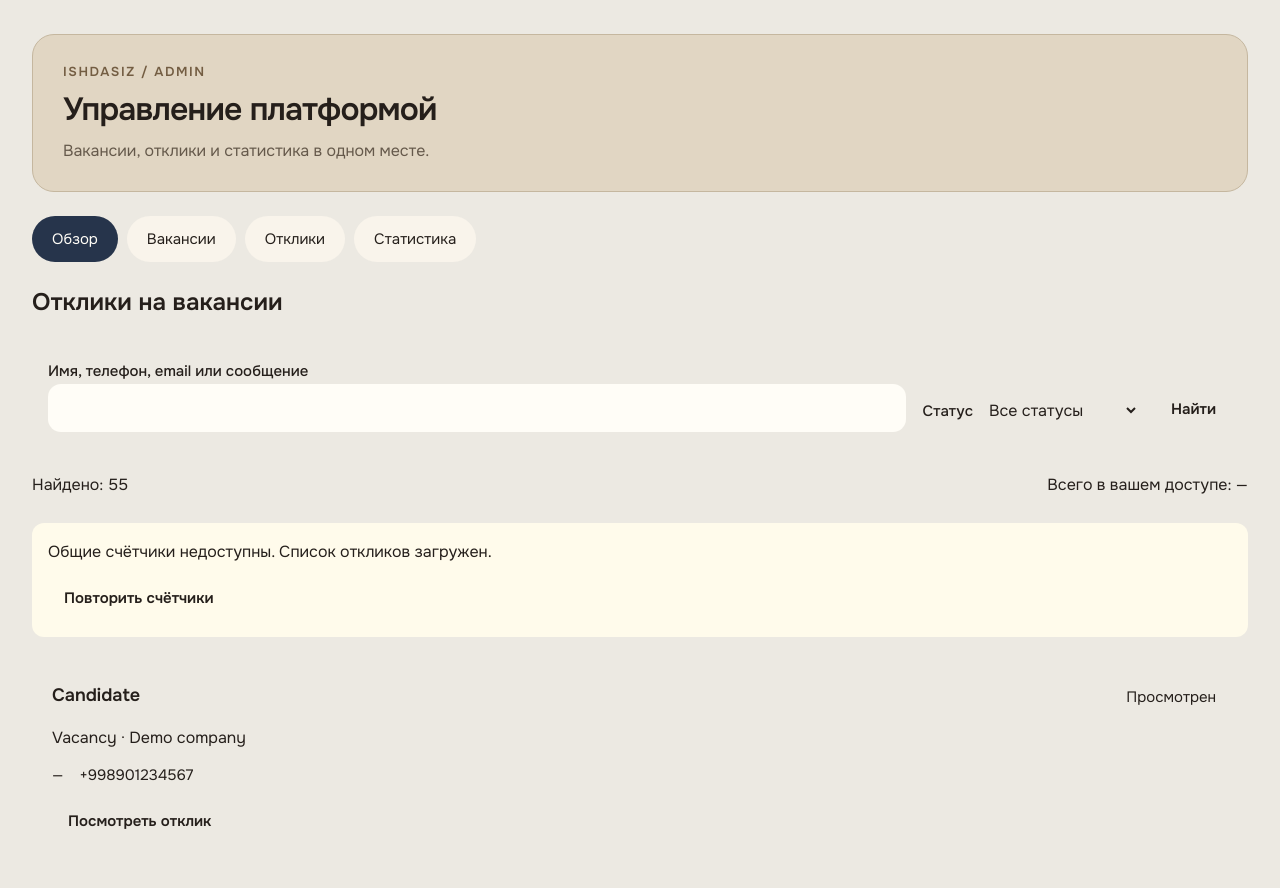
applications show a protected resume summary, clear detail on page changes, and never claim missing counts are zero
The image size is (1280, 888).
Expected: the heading "Candidate" is shown, [52, 681, 140, 713]
Expected: the message shows "счётчики недоступны", [48, 541, 492, 562]
Click the button "Посмотреть отклик".
click(140, 821)  # box [52, 799, 227, 843]
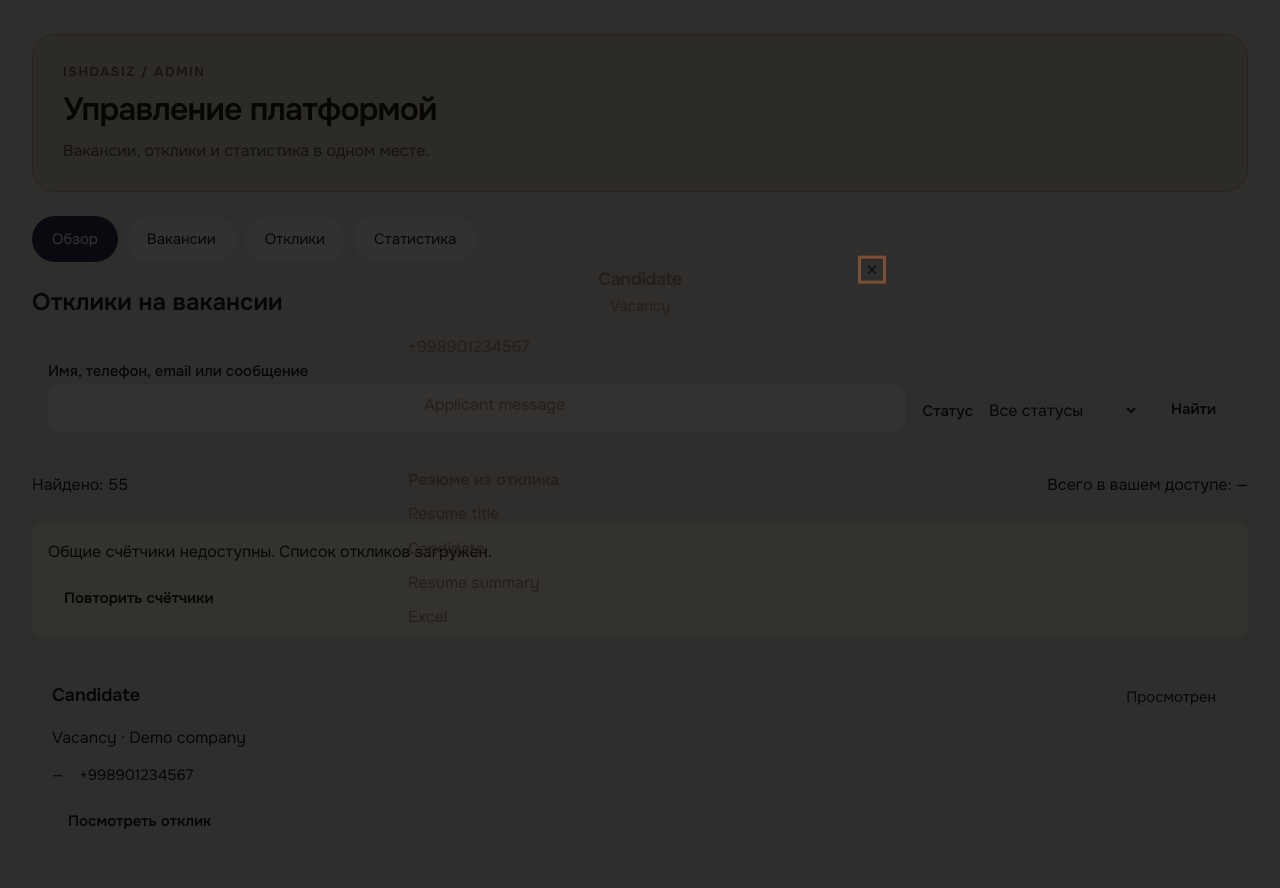
Click the button named "Close".
click(872, 270)  # box [864, 262, 880, 278]
(page scrolled)
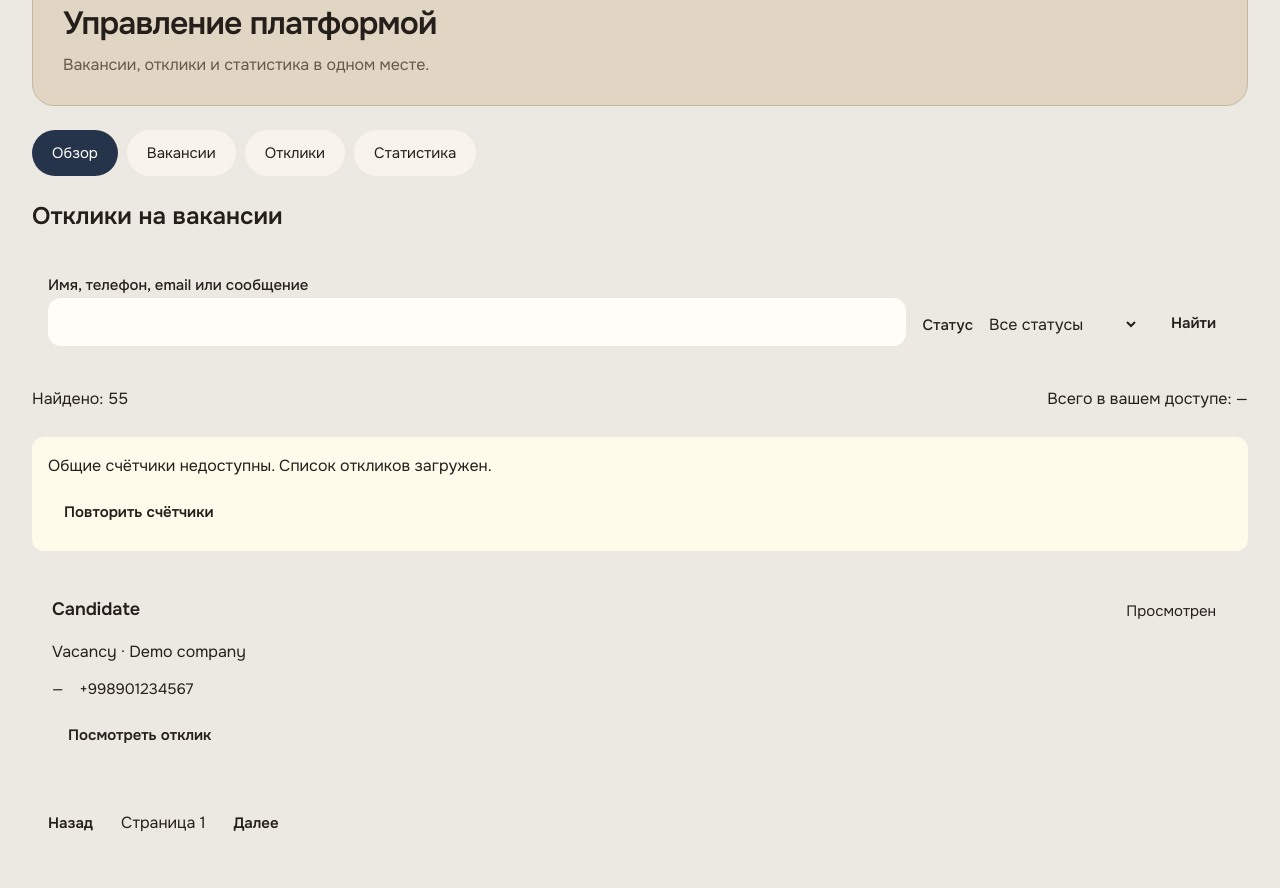
Click the button "Далее".
click(256, 823)  # box [218, 801, 295, 845]
(page scrolled)
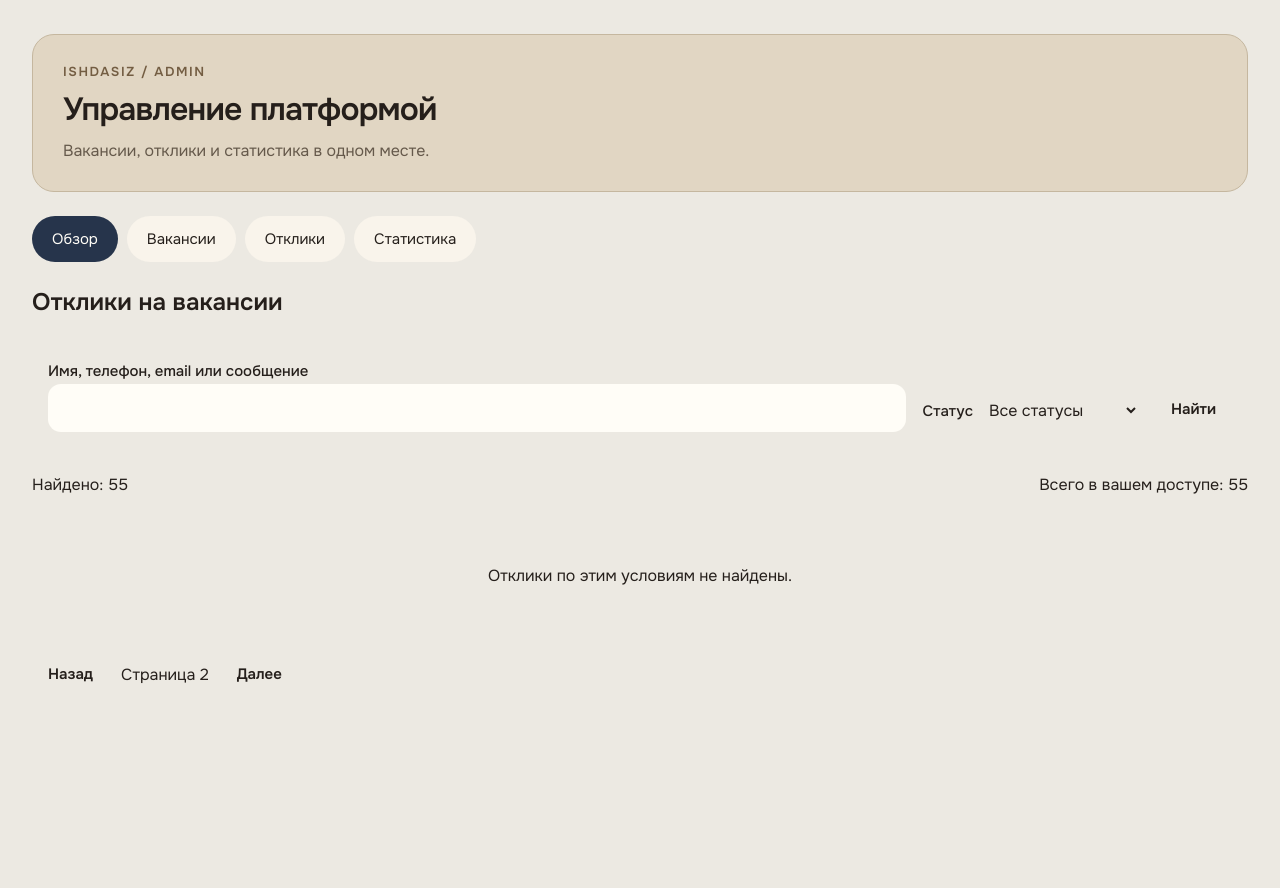
Expected: the text "Страница 2" is shown, [121, 662, 209, 688]
